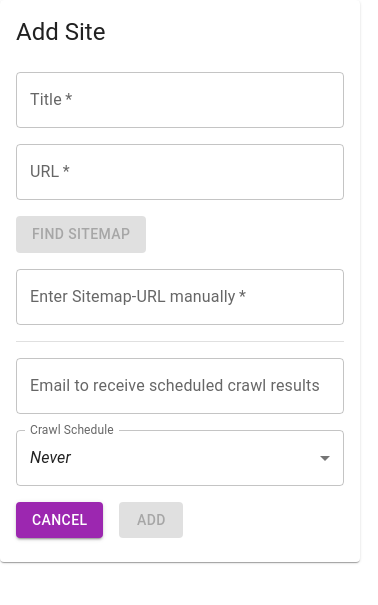
SiteForm Component › displays a fallback message for non-Axios sitemap errors
Step 1. Type "https://newsite.com" into the field labelled "URL *" → coordinates (180, 172), box left=16, top=144, right=344, bottom=200
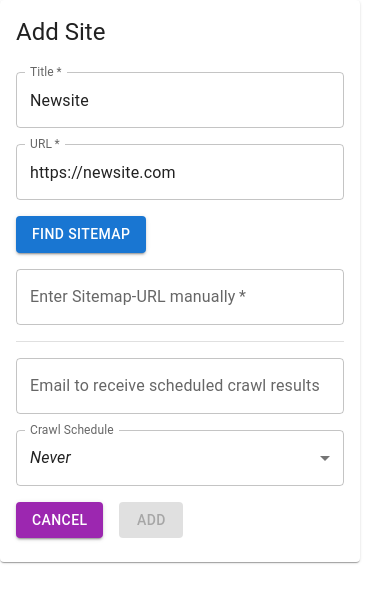
Step 2. Click the button "Find Sitemap" → coordinates (81, 234), box left=16, top=216, right=146, bottom=252
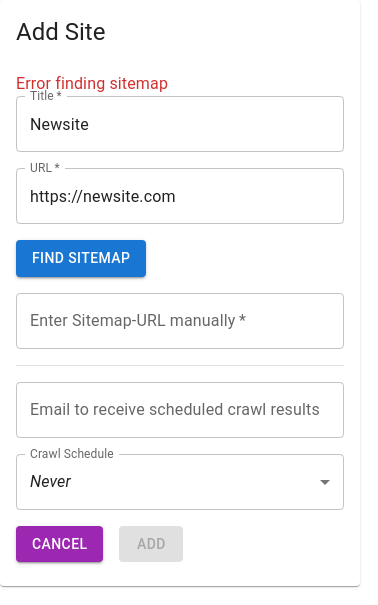
Expected: the text "Error finding sitemap" is shown, left=16, top=74, right=168, bottom=93
